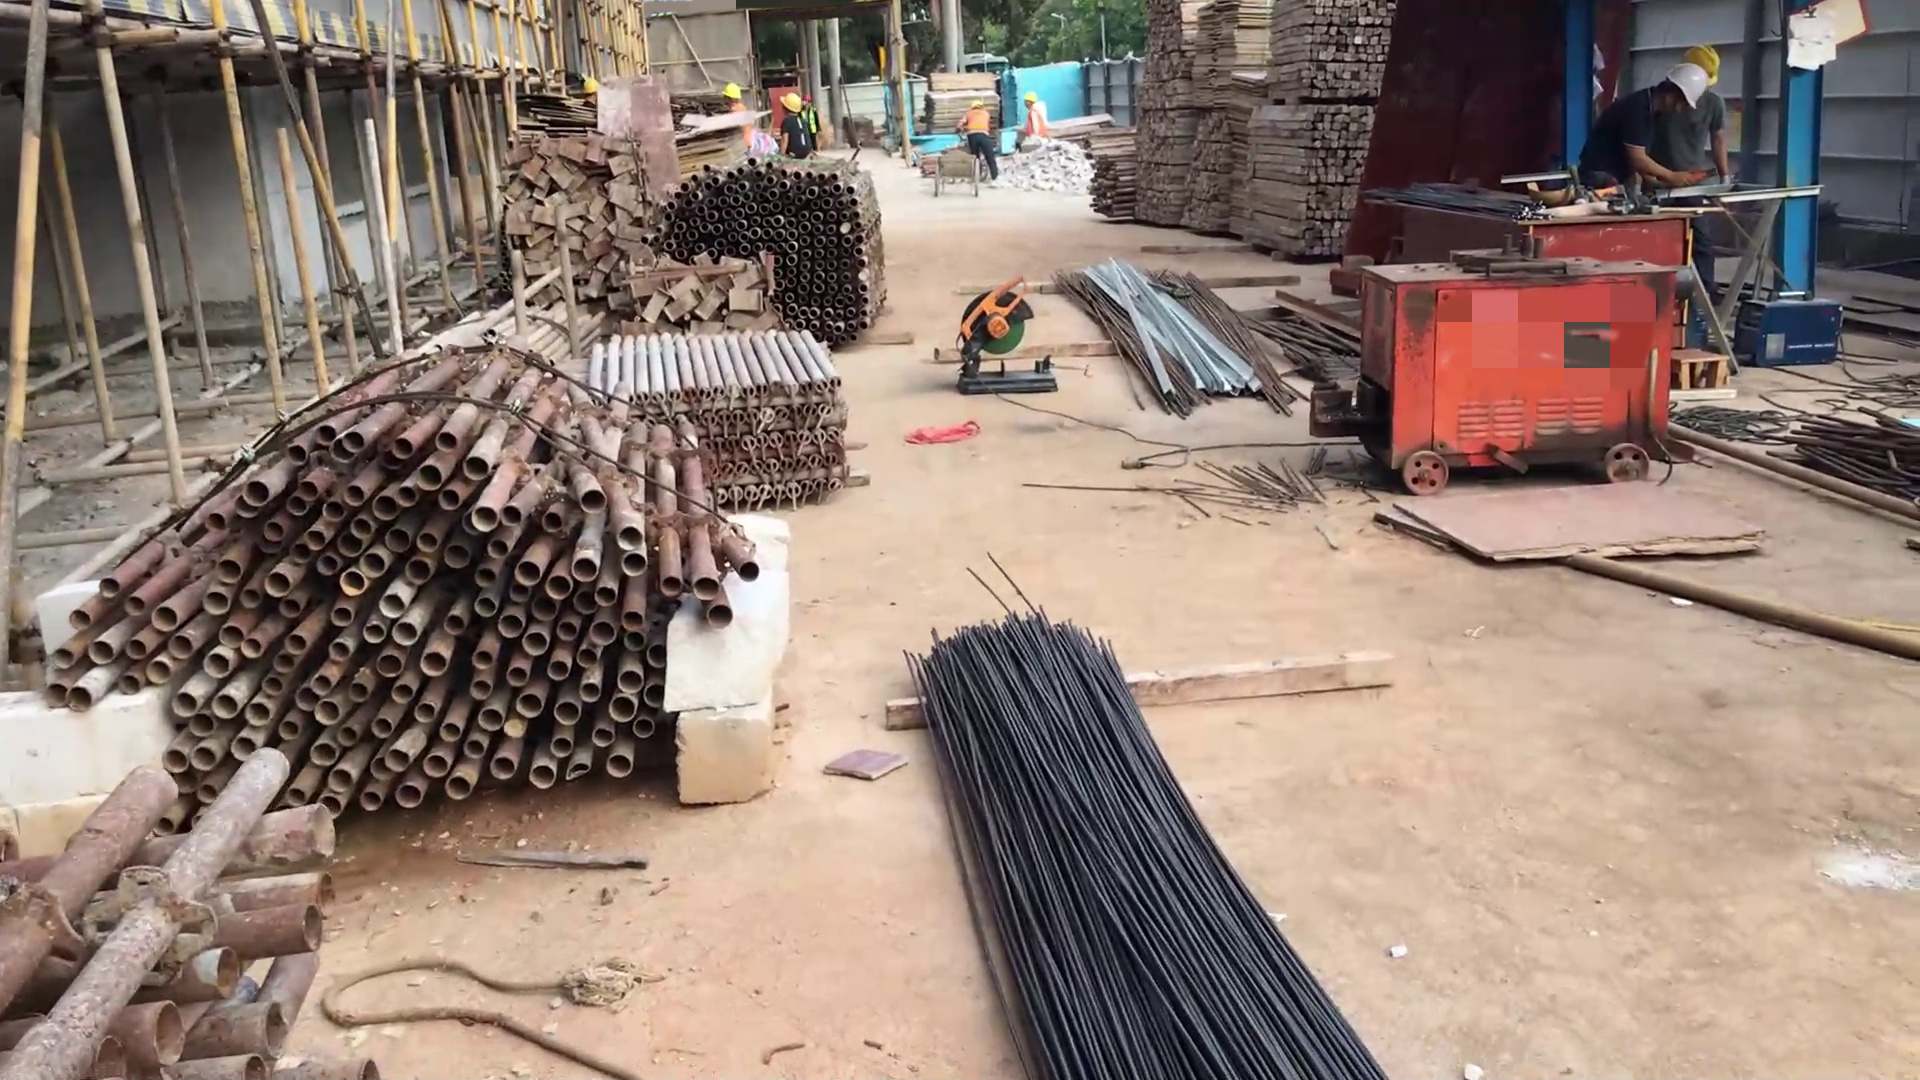cutter: (944, 263, 1061, 409)
helmet: (1657, 25, 1723, 120)
person: (1576, 59, 1712, 197), (1675, 42, 1735, 311), (955, 97, 1004, 185), (773, 86, 822, 164), (720, 76, 758, 147), (1015, 89, 1049, 152)
rebar: (889, 597, 1408, 1080)
scaffold: (49, 337, 766, 809), (4, 766, 388, 1078), (571, 329, 866, 514), (645, 152, 890, 353)
wood: (1131, 1, 1387, 259)
